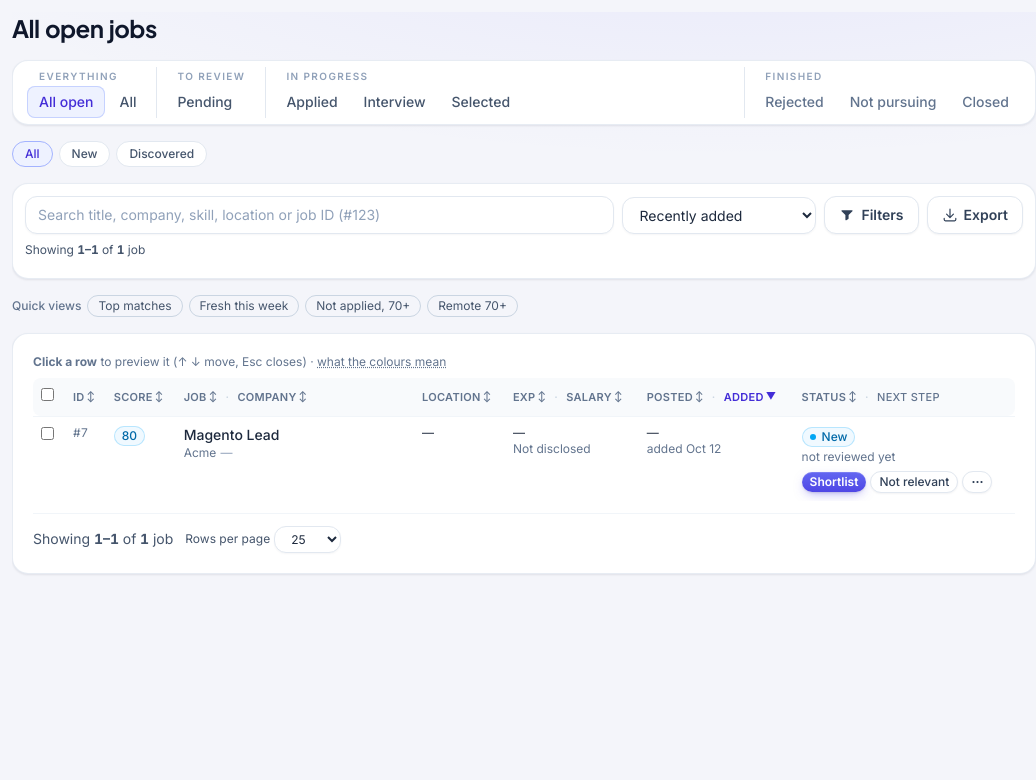
Test case: live list › shows a status change without a page reload
Click the button with aria-label "Shortlist Magento Lead" at [834, 482], box [802,472,866,492]
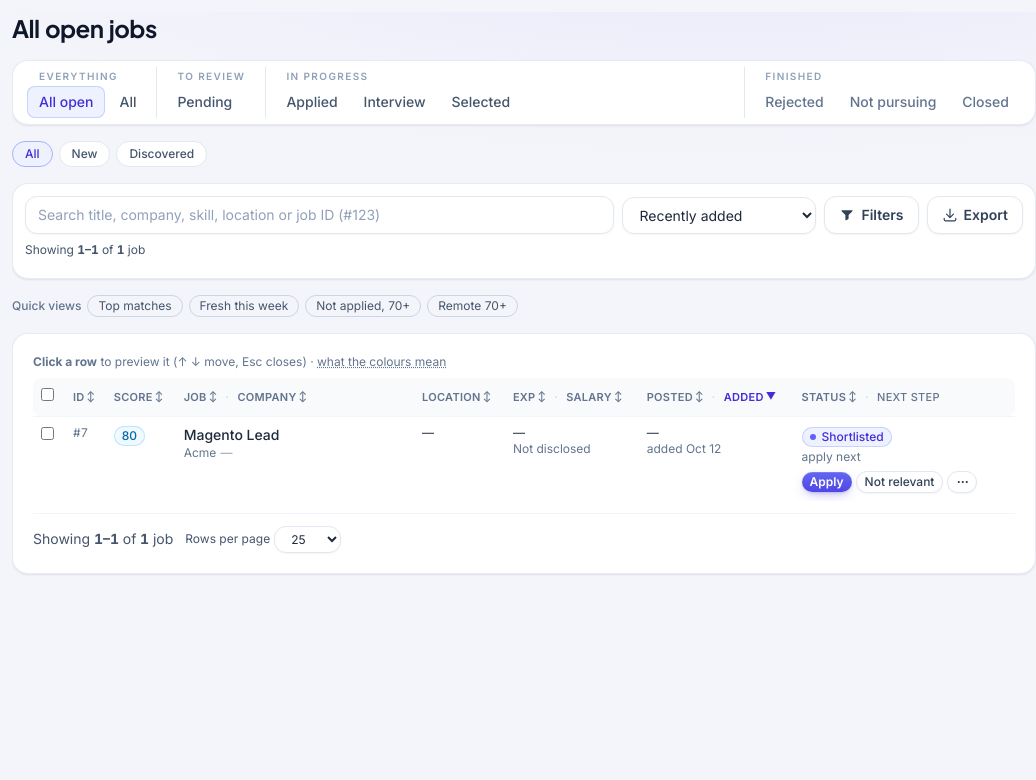
Expected: the link with aria-label "Apply to Magento Lead" is shown, [802,472,852,492]
